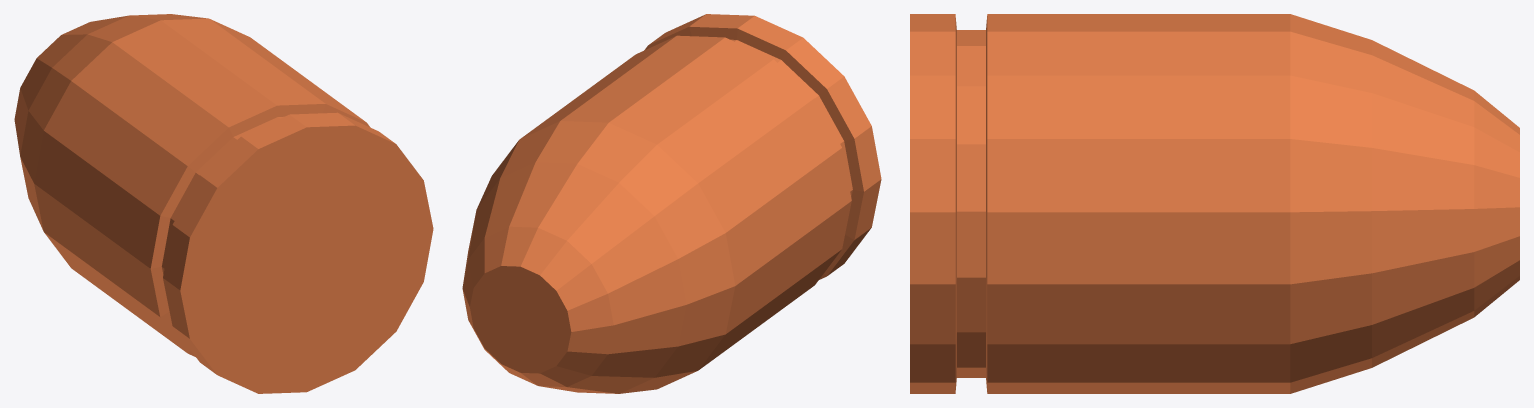
The model's file is lowpoly_pistols_bullet.fbx.
3 renders of one model, left to right at view 1: azimuth 30°, elevation 25°; view 2: azimuth 150°, elevation 25°; view 3: azimuth 270°, elevation 25°, orthographic. The views are drawn at different scales.
Visible parts, largest first — view 1: Bullet; view 2: Bullet; view 3: Bullet.
Part boxes in pixels (box(x1,y1,x2,y2)): Bullet: box(14, 14, 433, 393); Bullet: box(462, 14, 881, 393); Bullet: box(910, 14, 1519, 393).
Bounding box in the file's own units: 35.88 × 35.88 × 57.52.
